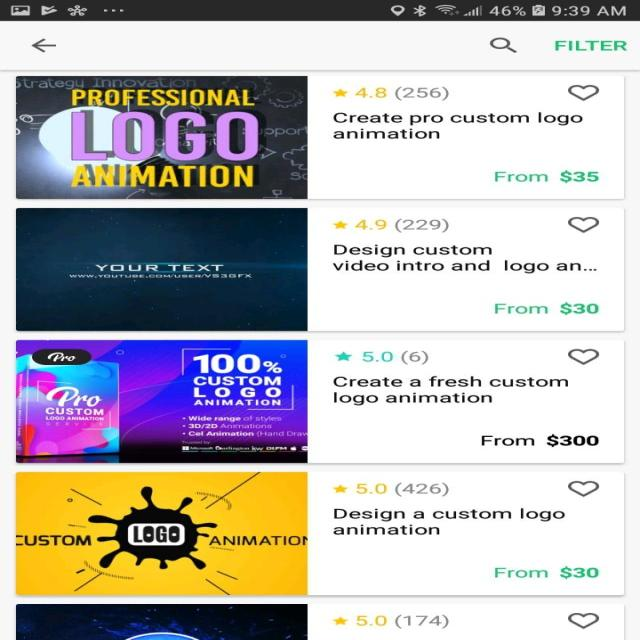Icon: (567, 612, 599, 630), (567, 85, 599, 102), (567, 216, 599, 233), (567, 349, 599, 365), (566, 480, 598, 496), (488, 37, 518, 53), (30, 38, 56, 53), (334, 352, 352, 362), (332, 89, 348, 98), (332, 220, 348, 229), (332, 484, 348, 493), (332, 616, 348, 625)
Image: (15, 471, 308, 595), (15, 208, 308, 331), (16, 340, 308, 463), (16, 76, 308, 199), (16, 604, 308, 640)
Text: (332, 244, 596, 274), (332, 376, 568, 406), (332, 112, 582, 139), (332, 507, 564, 535), (481, 434, 599, 447), (494, 565, 598, 579), (355, 86, 449, 101), (356, 482, 448, 497), (355, 218, 449, 232), (356, 614, 448, 628), (492, 170, 598, 182), (492, 302, 598, 314), (362, 350, 428, 364), (554, 40, 626, 51)
